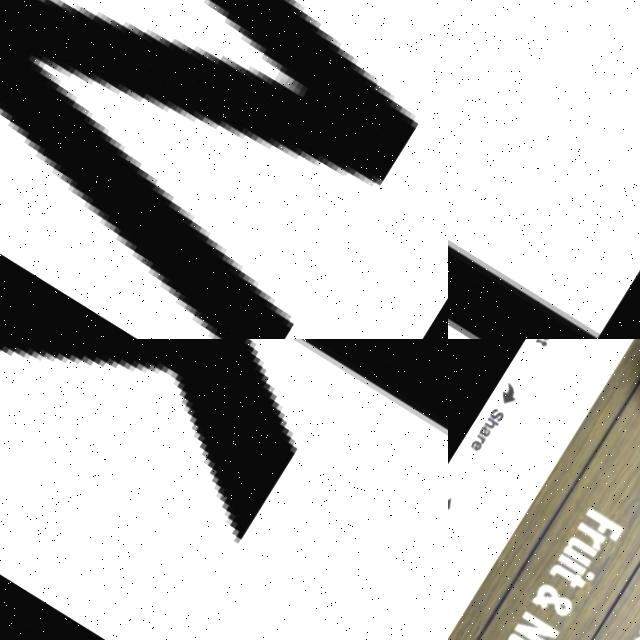1: (448, 0, 640, 339)
A: (476, 425, 491, 439)
E: (467, 439, 482, 454)
F: (578, 507, 622, 545)
H: (482, 417, 497, 432)
I: (554, 553, 593, 584)
K: (0, 339, 448, 640)
N: (509, 609, 557, 640), (536, 339, 551, 343)
R: (570, 523, 603, 552), (471, 432, 486, 446)
S: (486, 406, 504, 425)
T: (545, 560, 585, 594), (533, 339, 546, 349)
U: (558, 535, 594, 569), (497, 631, 534, 640)
W: (0, 0, 448, 339)
